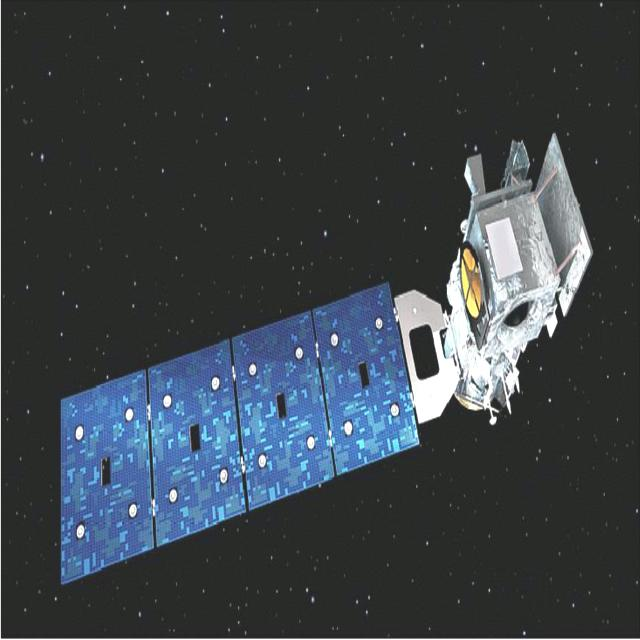medium_debris: (33, 103, 640, 599)
